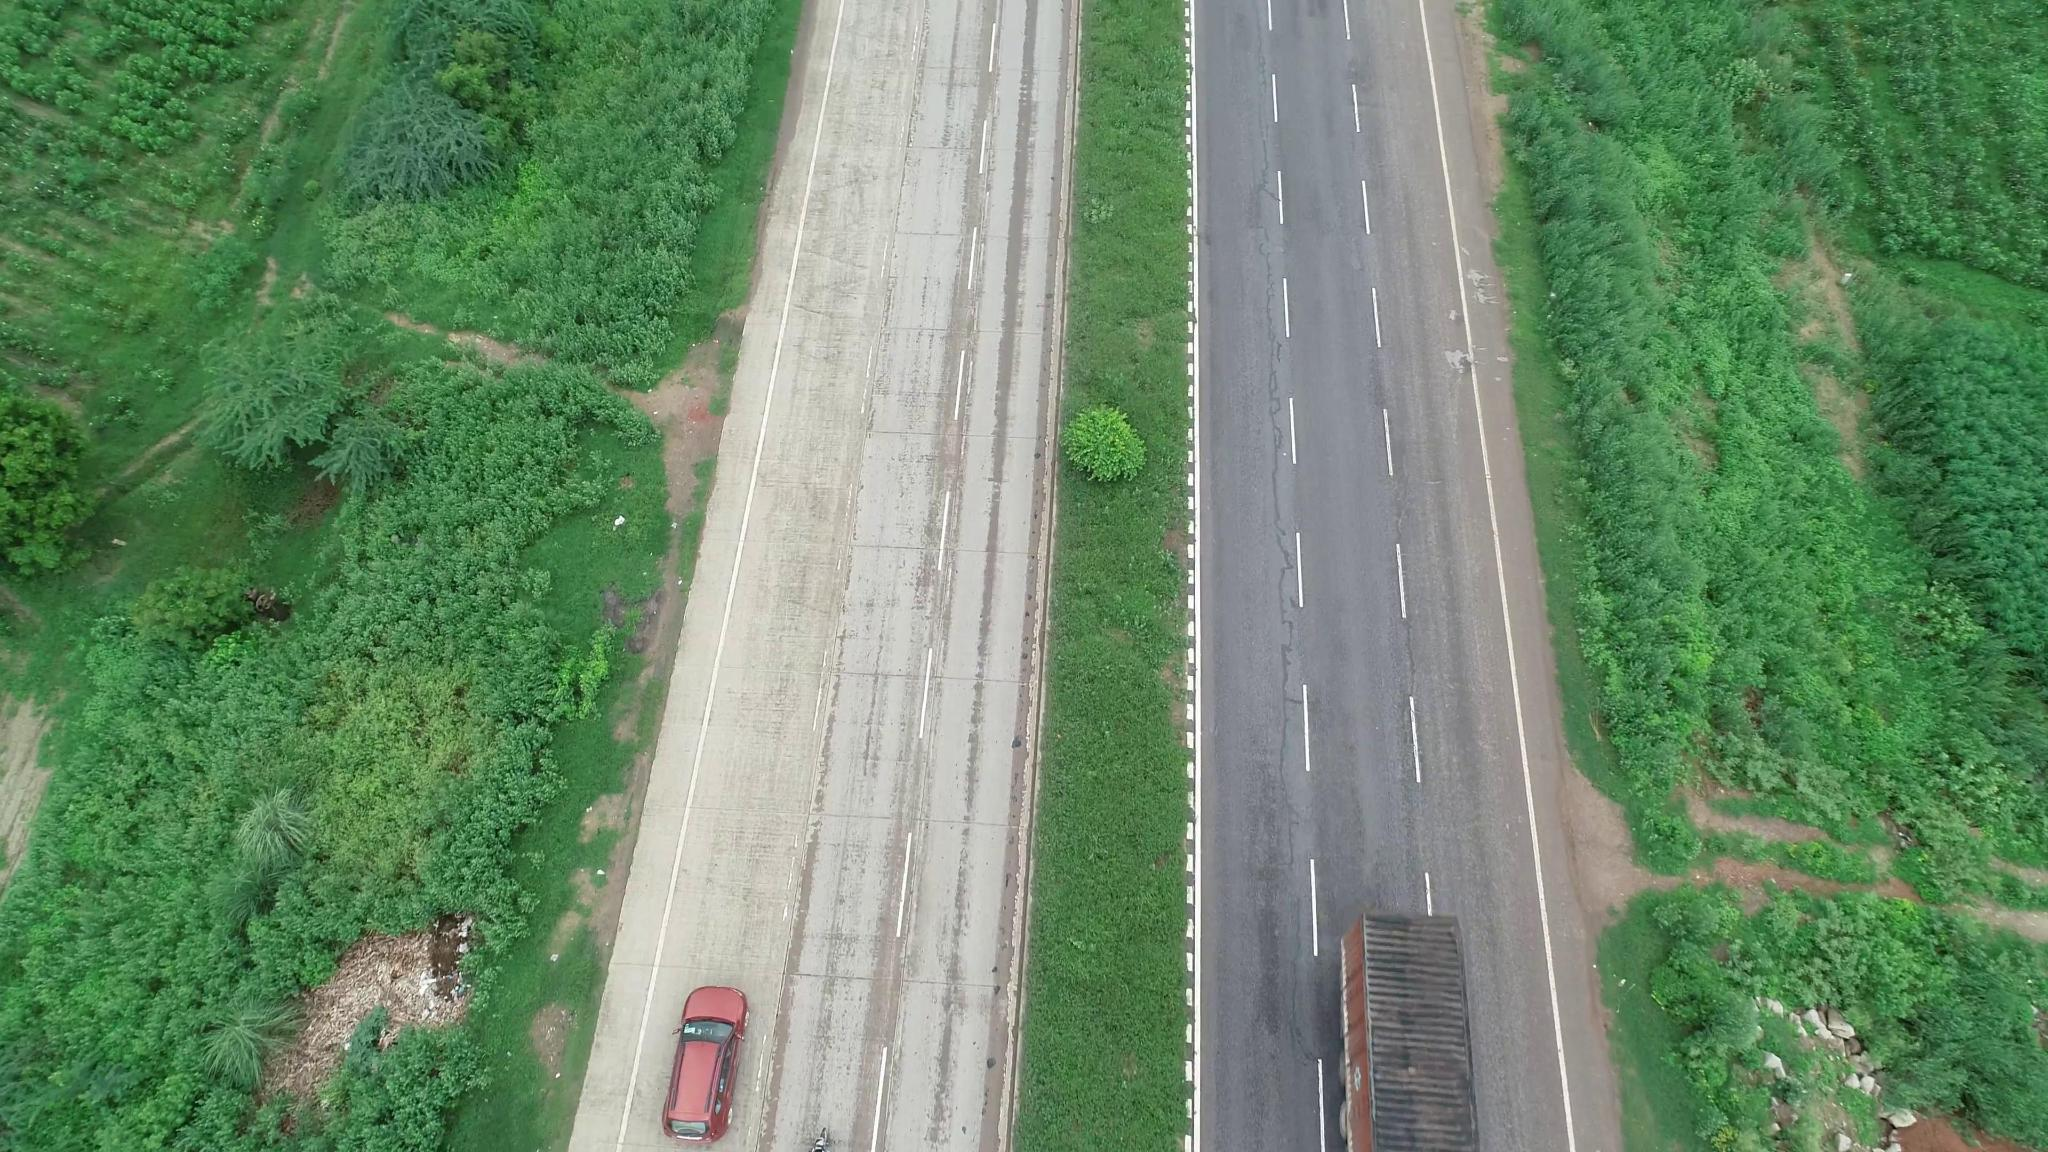Cracks: (1259, 215, 1303, 692)
